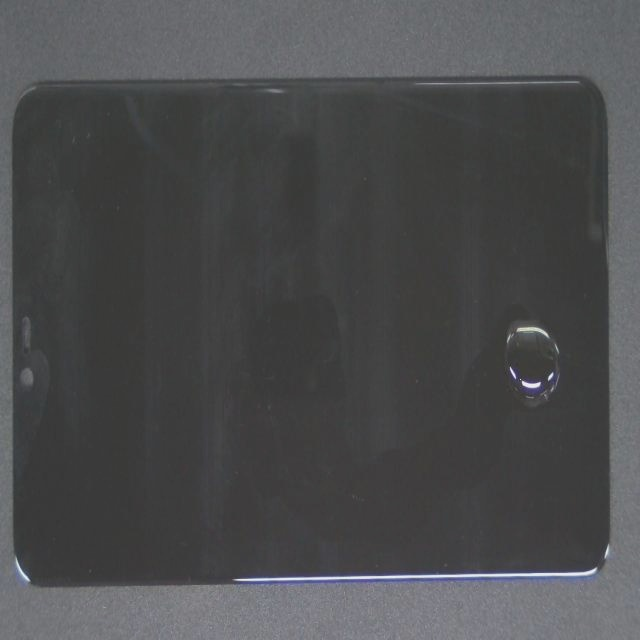oil: (264, 148, 640, 496)
